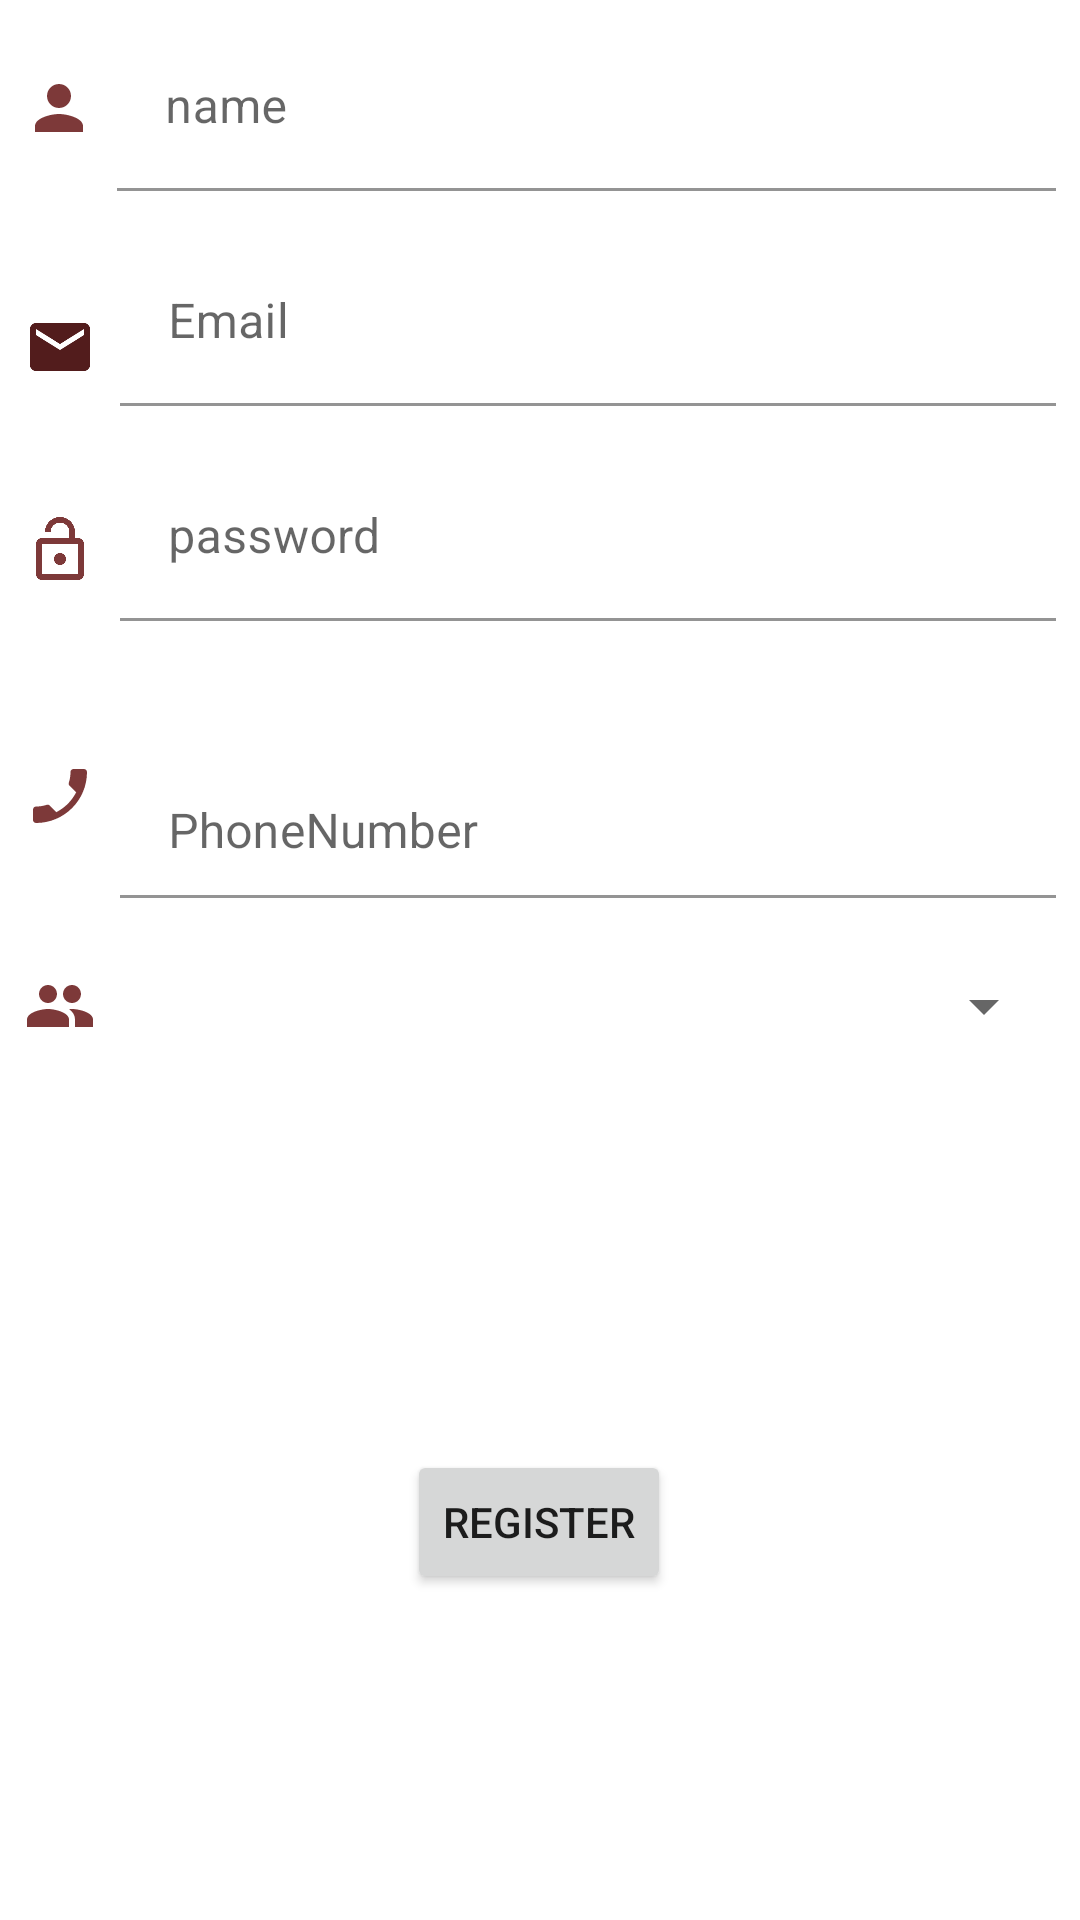

Icon bounding boxes for this 1080px×1920px phone screenshot, format [x1,y1,x2,y2]:
lock open: [36,517,84,580]
people: [27,985,93,1027]
person: [35,84,83,132]
